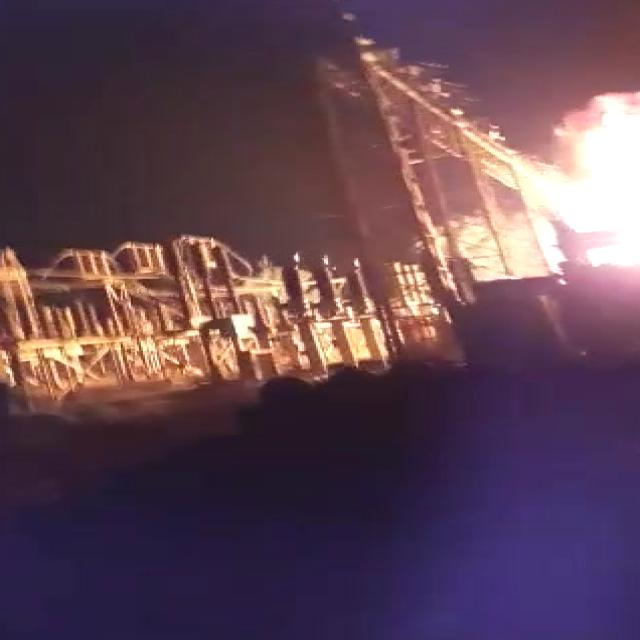firerotation: (519, 85, 640, 268)
